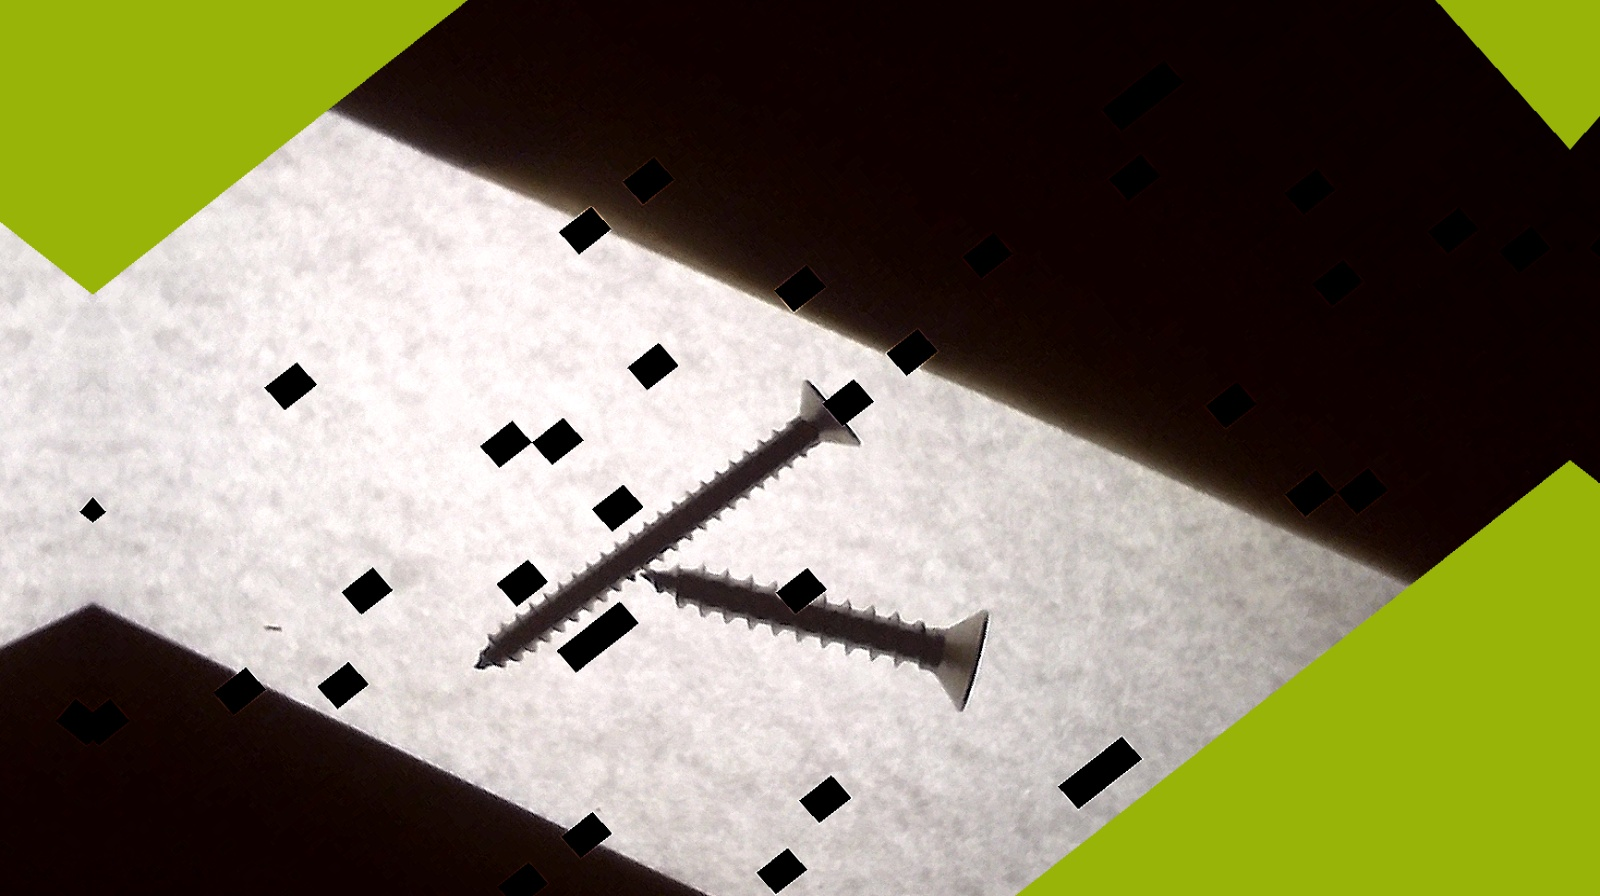S001: (634, 423, 1037, 809)
S002: (445, 361, 880, 724)
